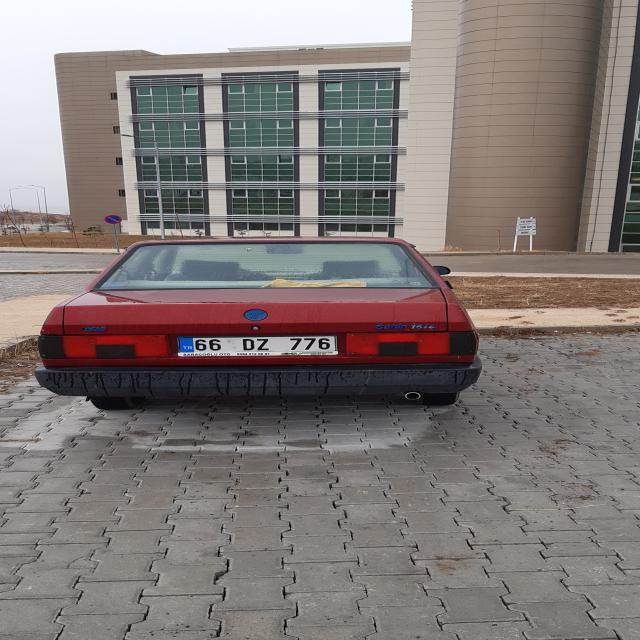license_plate: (177, 335, 338, 353)
